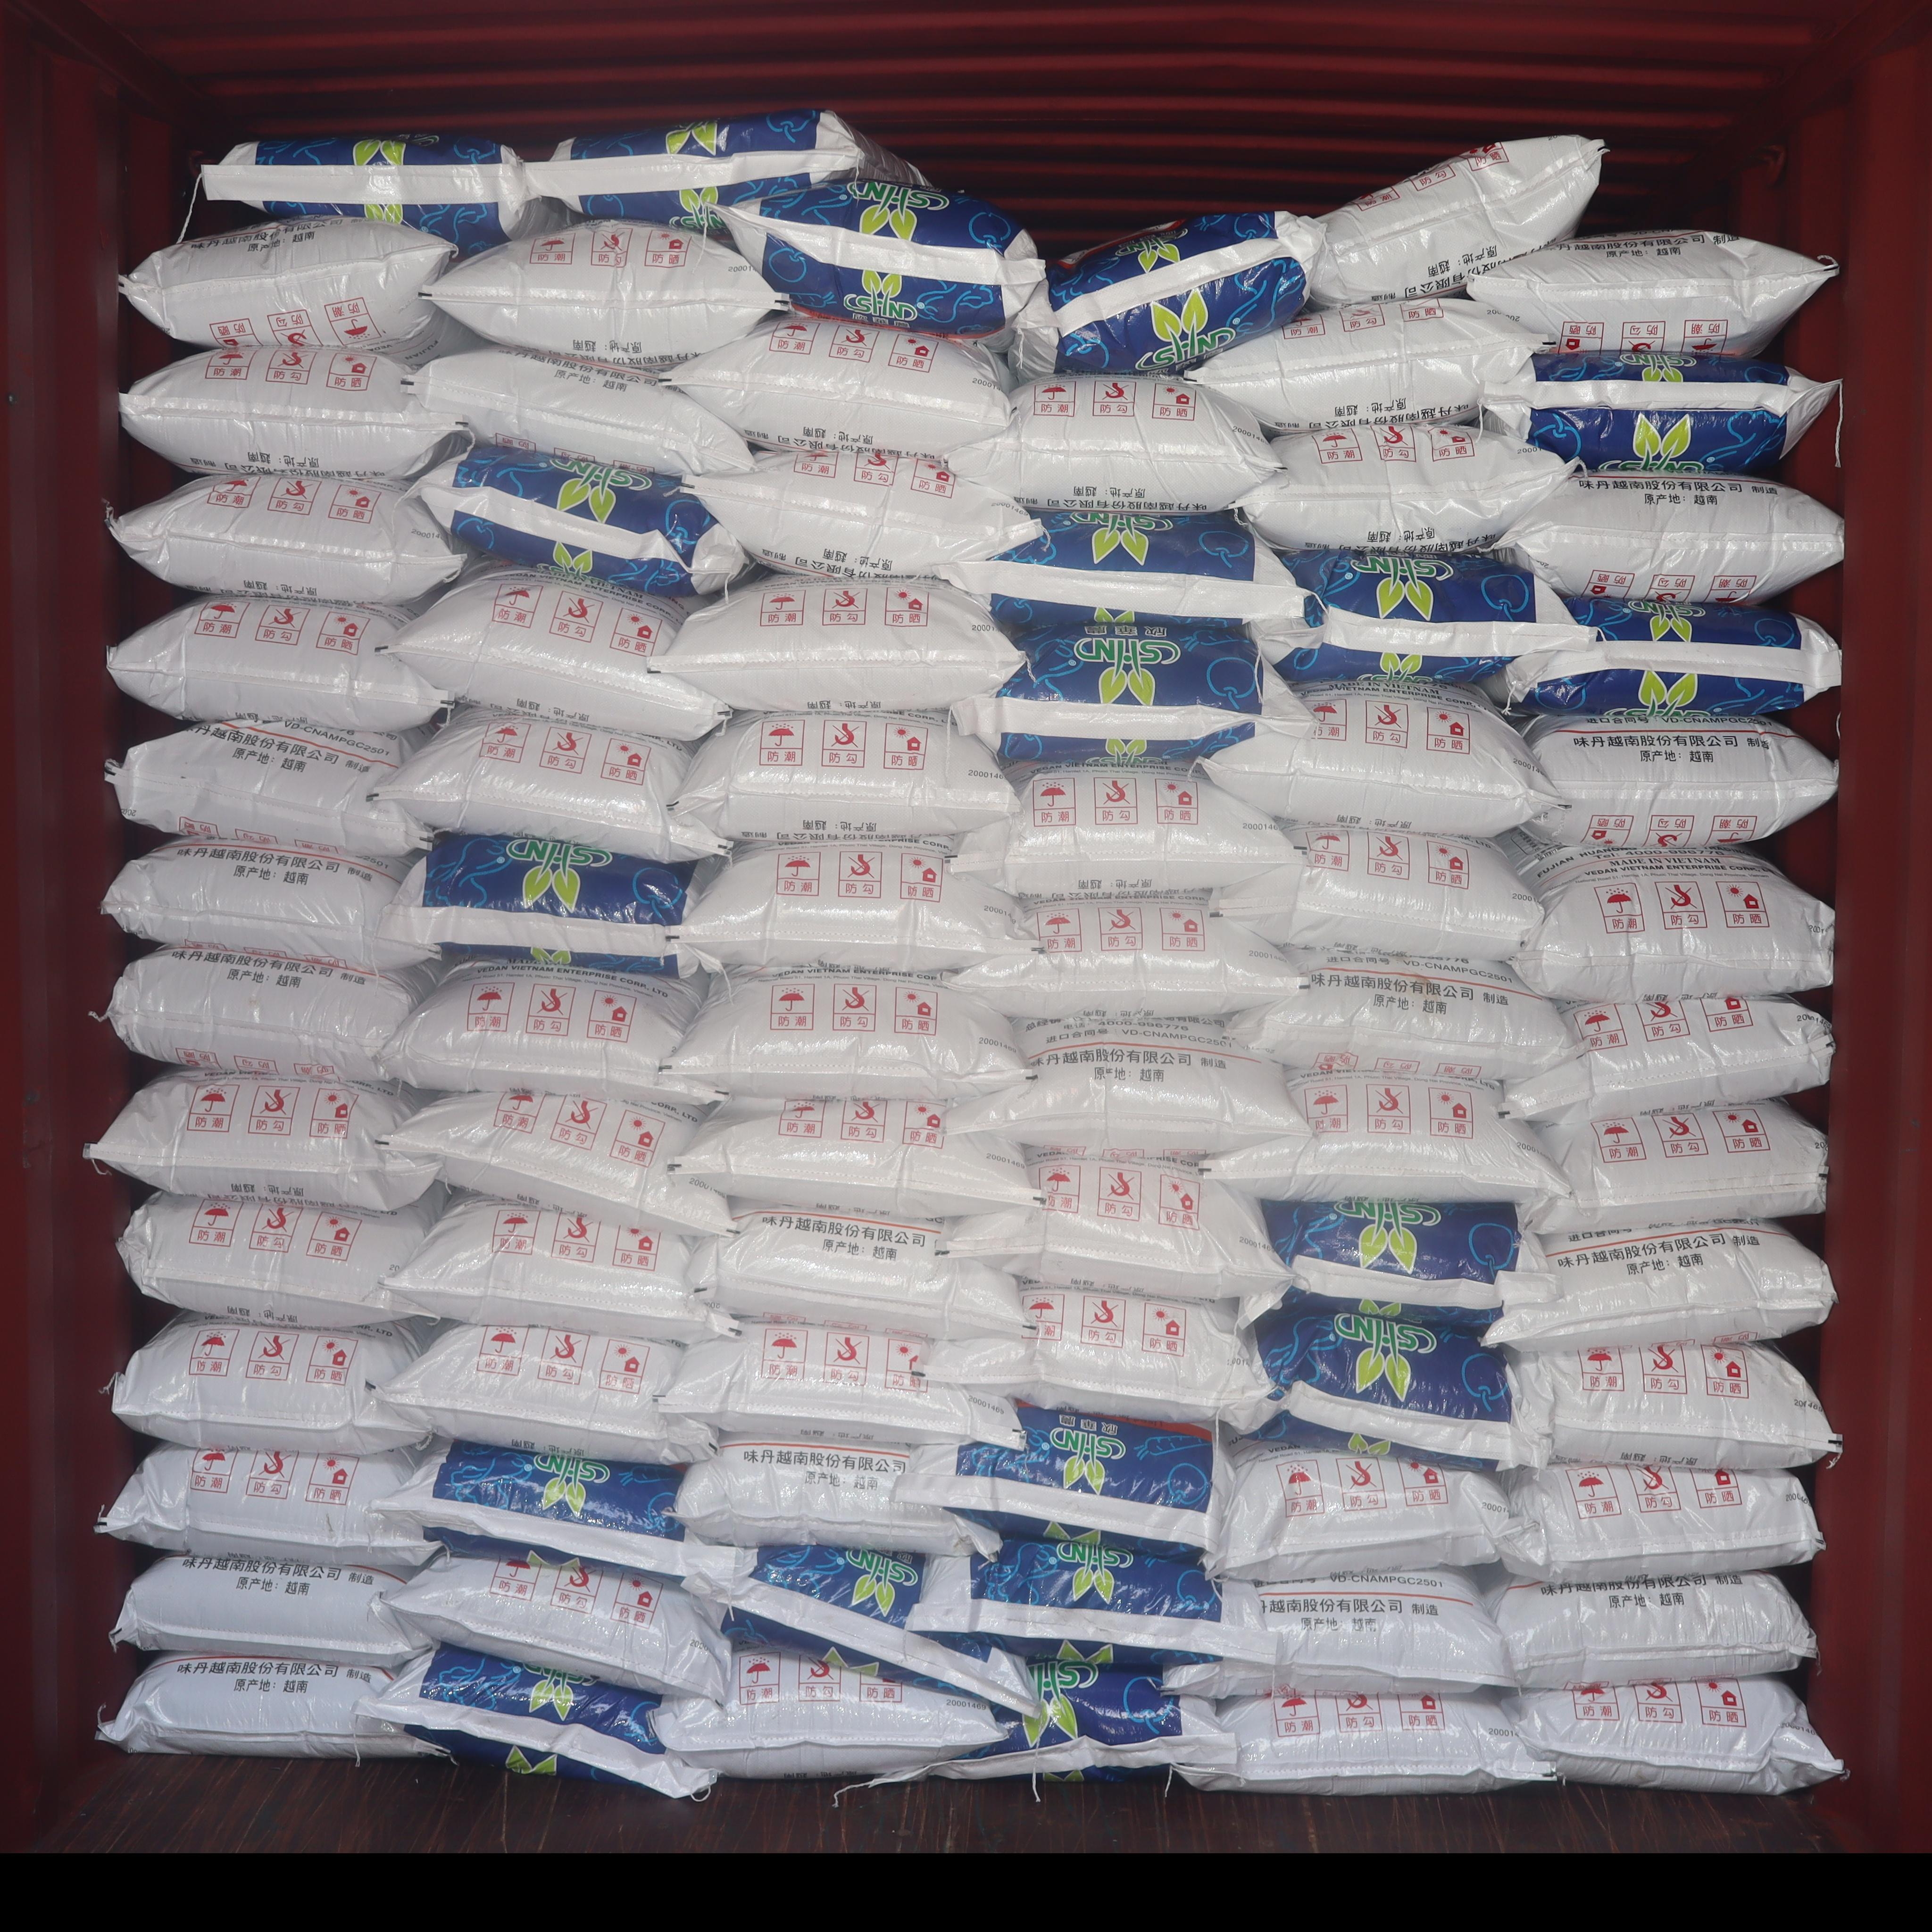sack: (379, 565, 728, 740), (695, 1545, 1039, 1716), (1206, 678, 1561, 837), (1499, 832, 1834, 999), (375, 706, 726, 861), (119, 216, 473, 370), (358, 1645, 716, 1797), (424, 219, 778, 372), (373, 1442, 754, 1582), (1010, 211, 1325, 377), (892, 1403, 1227, 1556), (381, 1196, 729, 1342), (532, 109, 929, 236), (930, 1277, 1269, 1426), (377, 960, 724, 1106), (725, 180, 1045, 337), (388, 1087, 729, 1233), (953, 624, 1314, 762), (412, 446, 747, 595), (388, 1556, 730, 1701), (1310, 135, 1603, 305), (946, 1156, 1289, 1299), (85, 1071, 438, 1210), (379, 834, 721, 977), (955, 1014, 1309, 1152), (1207, 1074, 1572, 1207), (663, 576, 1020, 712), (1250, 1311, 1551, 1471), (664, 968, 1029, 1100), (680, 836, 1038, 970), (1484, 1216, 1836, 1352), (669, 316, 1010, 455), (107, 592, 445, 731), (954, 761, 1301, 897), (1194, 296, 1538, 433), (118, 1183, 446, 1326), (378, 1324, 714, 1463), (1229, 946, 1574, 1082), (655, 1649, 1011, 1779), (1468, 230, 1837, 355), (688, 449, 1042, 578), (1163, 1569, 1516, 1699), (911, 1538, 1275, 1664), (658, 1322, 1023, 1448), (113, 474, 466, 603), (120, 346, 462, 479), (406, 348, 753, 477), (107, 945, 439, 1080), (948, 893, 1303, 1019), (957, 375, 1279, 513), (692, 1209, 1031, 1340), (672, 1097, 1037, 1218), (106, 720, 429, 857), (1502, 473, 1843, 603), (1216, 824, 1543, 960), (1519, 711, 1838, 850), (101, 838, 435, 970), (676, 712, 1020, 840), (112, 1315, 427, 1453), (1484, 351, 1840, 474), (1249, 550, 1583, 680), (944, 509, 1306, 629), (1240, 1199, 1560, 1333), (1485, 598, 1841, 717), (1511, 1341, 1840, 1470), (1236, 425, 1570, 551), (1506, 994, 1833, 1120), (1212, 1444, 1514, 1580), (202, 137, 558, 252), (1503, 1676, 1843, 1795), (1183, 1688, 1556, 1795), (100, 1446, 436, 1563), (672, 1435, 999, 1556), (1530, 1100, 1826, 1232), (1489, 1573, 1815, 1690), (1500, 1465, 1824, 1583), (97, 1653, 439, 1762), (933, 1660, 1237, 1781), (111, 1554, 421, 1668)
